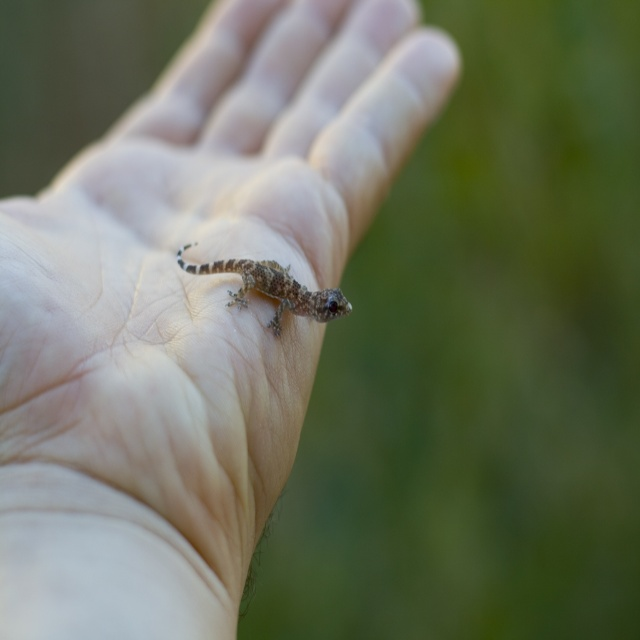Lizard: (179, 229, 352, 350)
